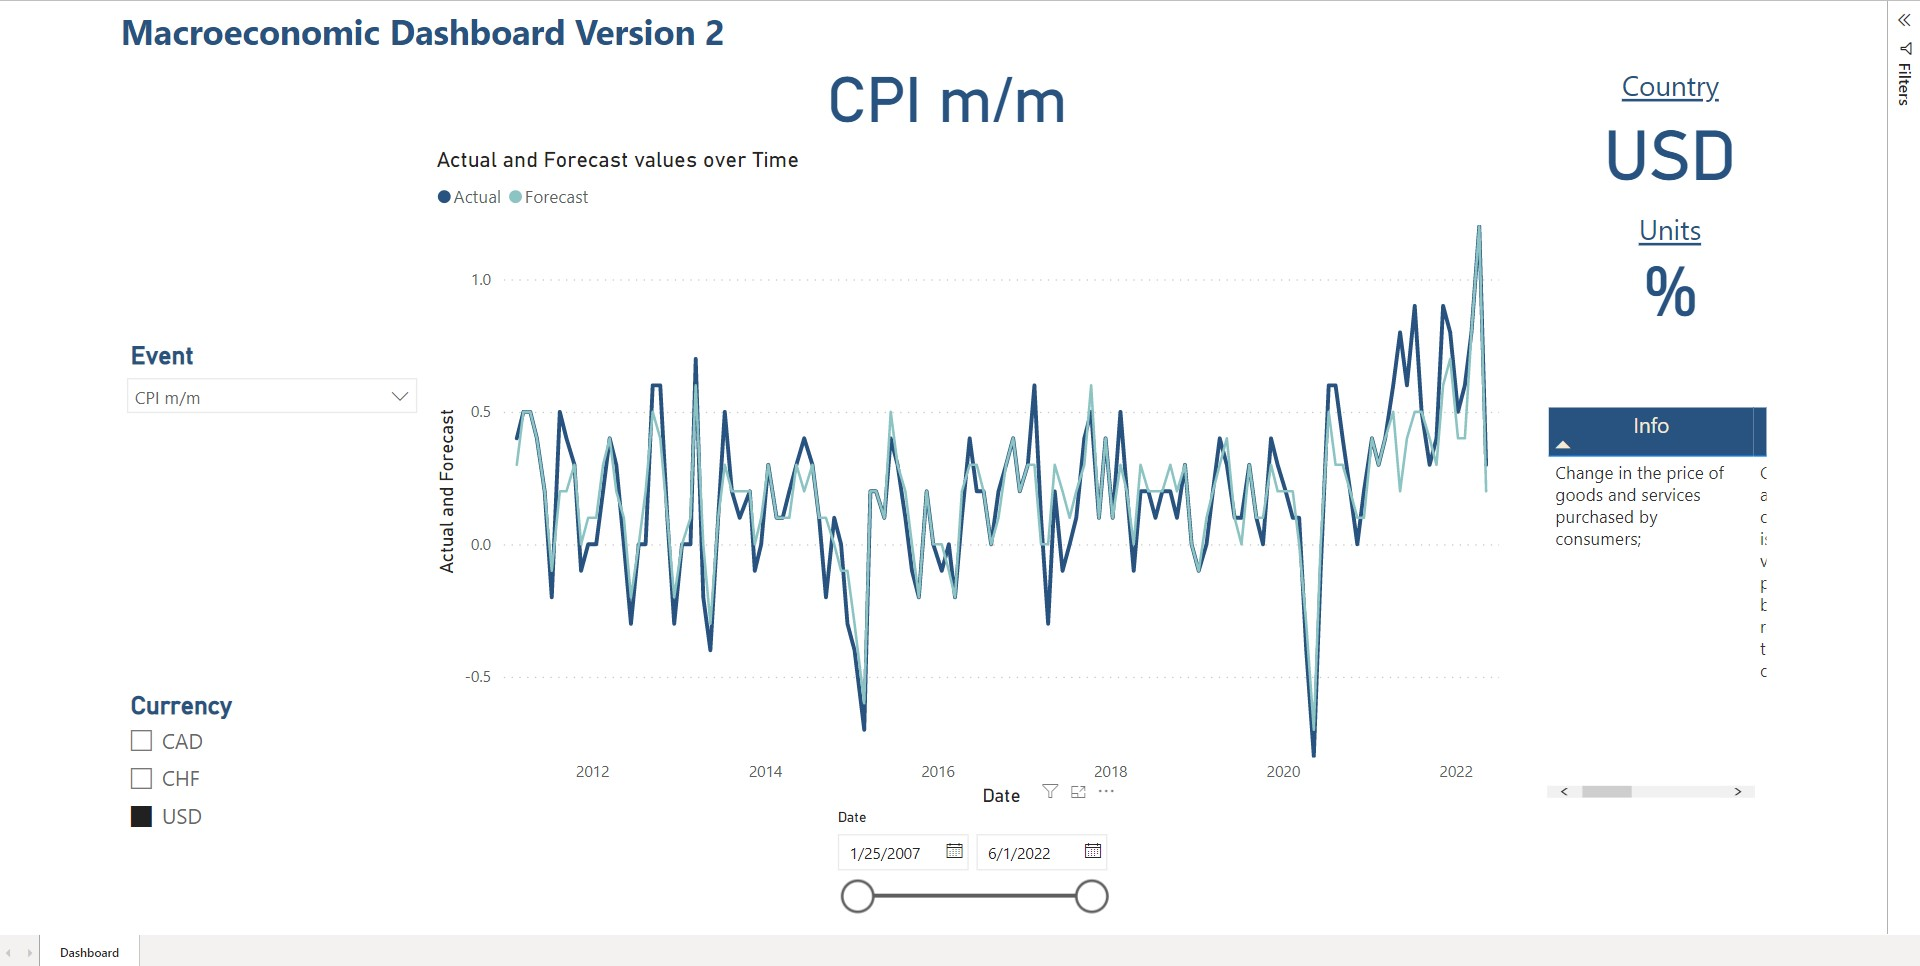

What the dashboard file says about the page in this screenshot:
{"tool":"powerbi","page":{"name":"Dashboard","canvas":[1280,720],"ordinal":0},"visuals":[{"type":"card","fields":{"Values":["Min(MAY_updated_desc.Currency)"]},"box":[1125.4,87.4,151,69.5],"z":0,"group":"g1"},{"type":"lineChart","title":"Actual and Forecast values over Time","fields":{"Y":["Sum(MAY_updated_desc.Actual)","Sum(MAY_updated_desc.Forecast)"],"Category":["MAY_updated_desc.Date"]},"box":[243.5,111.6,833.4,513.7],"z":0},{"type":"textbox","box":[0,0,577.8,54.5],"z":1000},{"type":"textbox","box":[1148.2,45.5,105.5,41.9],"z":1000,"group":"g1"},{"type":"card","fields":{"Values":["Min(MAY_updated_desc.Units)"]},"box":[1135,195.4,131.8,63.5],"z":1000,"group":"g2"},{"type":"card","fields":{"Values":["Min(MAY_updated_desc.Event)"]},"box":[222.1,49.5,842.1,62.1],"z":2000},{"type":"slicer","fields":{"Values":["MAY_updated_desc.Currency"]},"box":[0,527.3,210.9,184.6],"z":3000},{"type":"slicer","fields":{"Values":["MAY_updated_desc.Event"]},"box":[0,256.8,243.5,77.9],"z":4000},{"type":"slicer","fields":{"Values":["MAY_updated_desc.Date"]},"box":[545.6,619.1,230.2,100.9],"z":5000},{"type":"group","id":"g1","title":"Group 1","box":[1125.4,45.5,151,111.5],"z":6000},{"type":"textbox","box":[1162.6,157,75.5,41.9],"z":6003,"group":"g2"},{"type":"group","id":"g2","title":"Group 2","box":[1135,157,131.8,101.9],"z":7000},{"type":"tableEx","fields":{"Values":["MAY_updated_desc.Info","MAY_updated_desc.Notes","MAY_updated_desc.Importance"]},"box":[1101.1,308.4,178.9,310.5],"z":8000}]}

Visuals, with their boxes on the page's 1280x720 design canvas (x1, y1, x2, y2). These are canvas units, not pixel positions in the 1920x966 screenshot, which may show the page scaled, cropped or inside an application window:
card - Min(MAY_updated_desc.Currency): <bbox>1125, 87, 1276, 157</bbox>
"Actual and Forecast values over Time" lineChart: <bbox>244, 112, 1077, 625</bbox>
textbox: <bbox>0, 0, 578, 54</bbox>
textbox: <bbox>1148, 46, 1254, 87</bbox>
card - Min(MAY_updated_desc.Units): <bbox>1135, 195, 1267, 259</bbox>
card - Min(MAY_updated_desc.Event): <bbox>222, 50, 1064, 112</bbox>
slicer - MAY_updated_desc.Currency: <bbox>0, 527, 211, 712</bbox>
slicer - MAY_updated_desc.Event: <bbox>0, 257, 244, 335</bbox>
slicer - MAY_updated_desc.Date: <bbox>546, 619, 776, 720</bbox>
"Group 1" group: <bbox>1125, 46, 1276, 157</bbox>
textbox: <bbox>1163, 157, 1238, 199</bbox>
"Group 2" group: <bbox>1135, 157, 1267, 259</bbox>
tableEx - MAY_updated_desc.Info x MAY_updated_desc.Notes: <bbox>1101, 308, 1280, 619</bbox>
